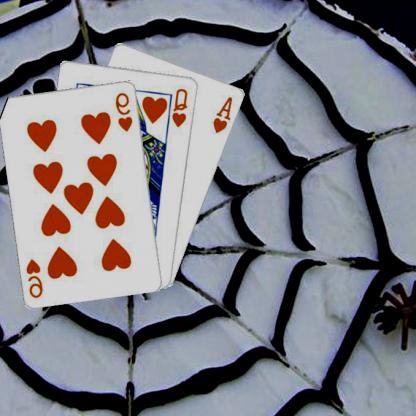9H: (115, 89, 136, 132), (25, 256, 46, 299)
AH: (212, 94, 236, 134)
QH: (171, 86, 191, 128)
